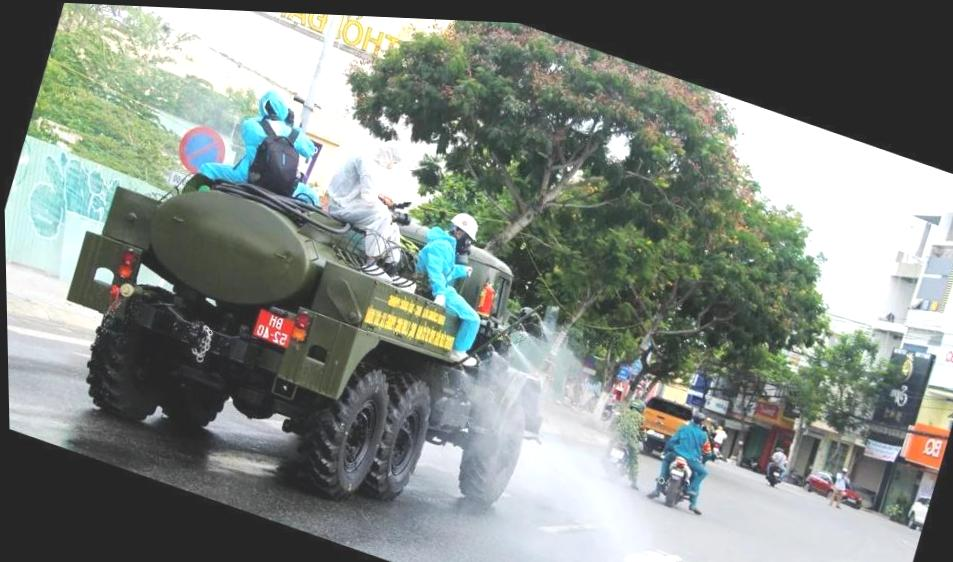License_Plate: (252, 308, 297, 346)
